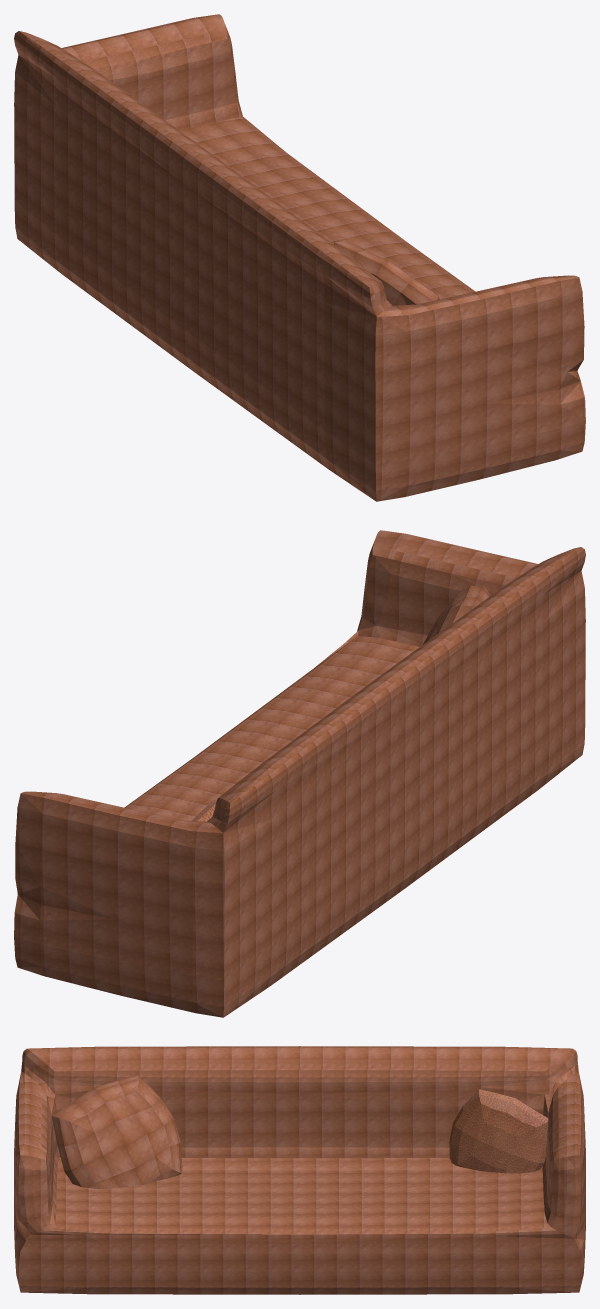
File: Sofa.obj
The picture shows the model from 3 angles, top to bottom: view 1: azimuth 30°, elevation 25°; view 2: azimuth 150°, elevation 25°; view 3: azimuth 270°, elevation 25°; orthographic projection. The views are drawn at different scales.
Visible parts, largest first — view 1: Sofa_Cube, Cushion_Left_Cube.001; view 2: Sofa_Cube, Cushion_Left_Cube.001; view 3: Sofa_Cube, Cushion_Left_Cube.001, Cushion_Right_Cube.002.
Boxes of the visible parts, <box> form: Sofa_Cube: <box>14,14,585,501</box>; Cushion_Left_Cube.001: <box>334,240,439,305</box>; Sofa_Cube: <box>14,530,585,1017</box>; Cushion_Left_Cube.001: <box>422,585,490,644</box>; Sofa_Cube: <box>14,1046,585,1294</box>; Cushion_Left_Cube.001: <box>51,1075,182,1189</box>; Cushion_Right_Cube.002: <box>449,1089,548,1173</box>.
Bounding box in the file's own units: 2.01 × 1.94 × 5.77.
